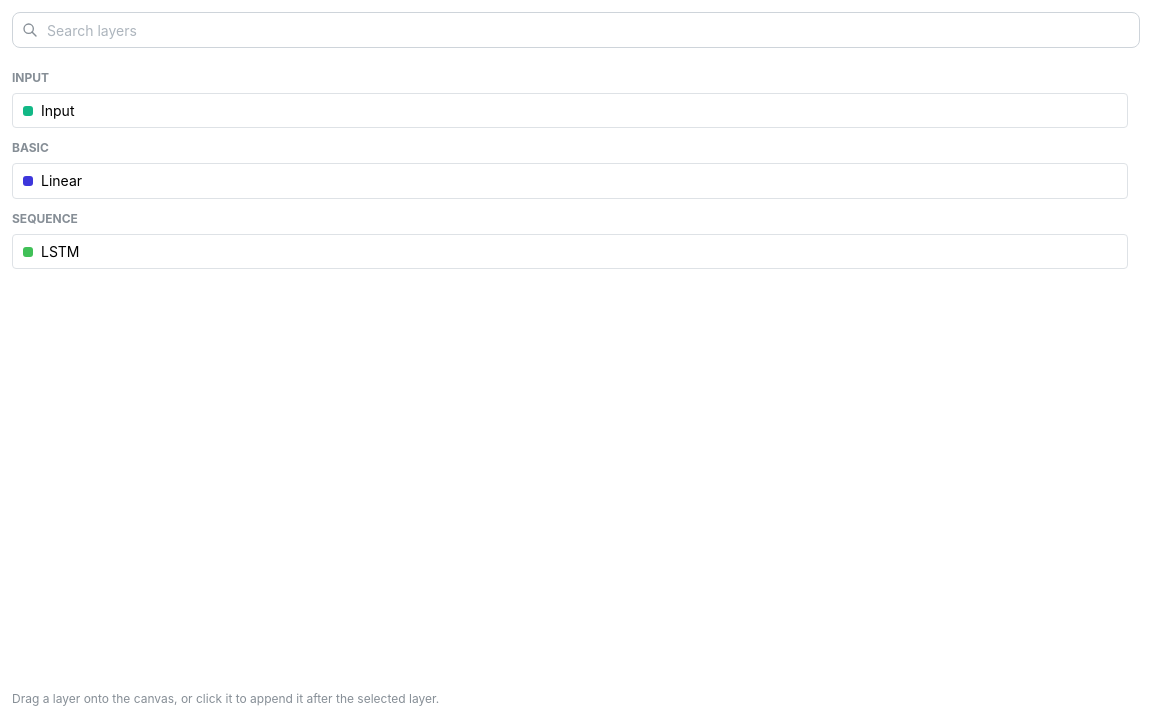
Test: Palette › groups layers by category and filters them
Expected: the text "Sequence" is shown, [12,211,78,226]
Type "lstm" into the field labelled "Search layers" at (576, 30), box [12,12,1140,48]
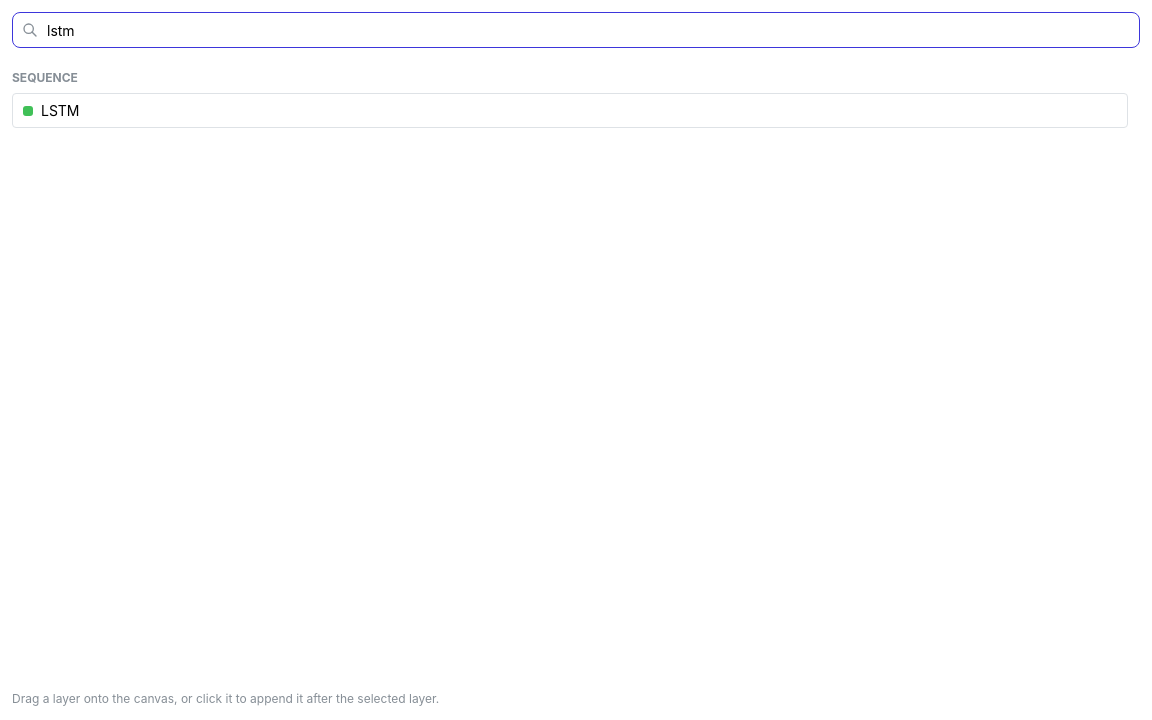
Expected: the button "LSTM" is shown, [12,93,1128,128]
Expected: the button "Linear" is gone
